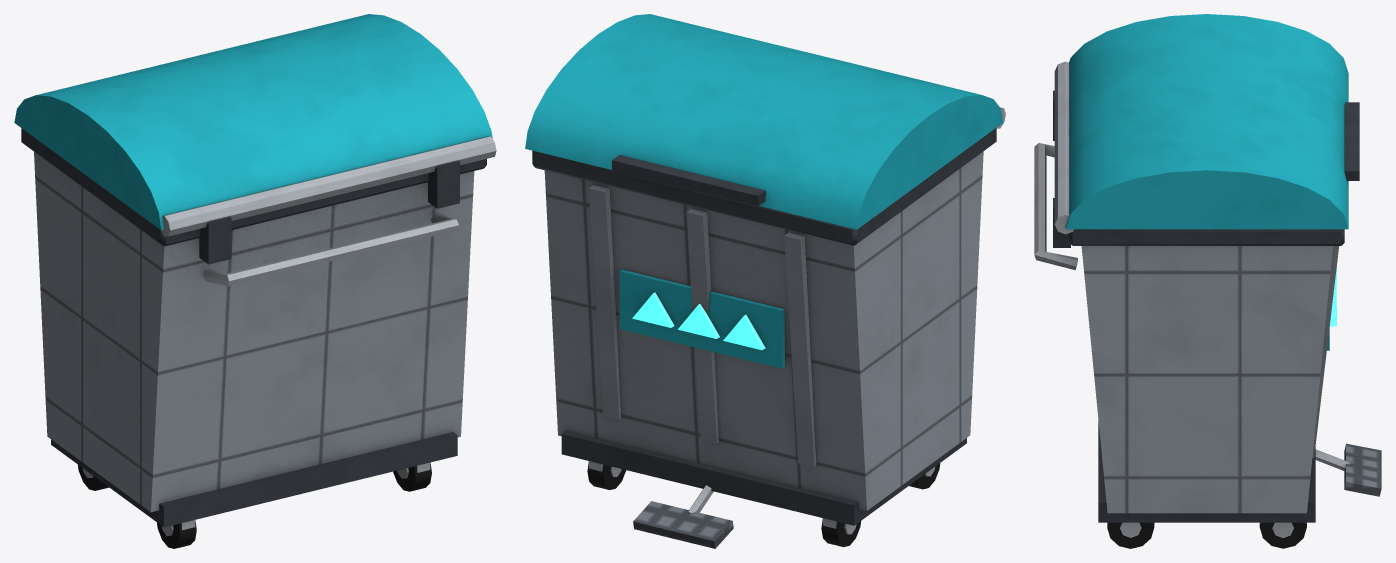
File: contenedor_basura.fbx
The picture shows the model from 3 angles, left to right: view 1: azimuth 30°, elevation 25°; view 2: azimuth 150°, elevation 25°; view 3: azimuth 270°, elevation 25°; orthographic projection. The views are drawn at different scales.
Visible parts, largest first — view 1: contenedor_basura, contenedor_basura_tapa; view 2: contenedor_basura, contenedor_basura_tapa, contenedor_basura_pedal, contenedor_basura_neon; view 3: contenedor_basura, contenedor_basura_tapa, contenedor_basura_pedal.
Part boxes in pixels (box(x1,y1,x2,y2)): contenedor_basura: box(21, 128, 496, 548); contenedor_basura_tapa: box(14, 14, 492, 230); contenedor_basura: box(532, 107, 1005, 547); contenedor_basura_tapa: box(525, 14, 1003, 229); contenedor_basura_pedal: box(633, 501, 733, 548); contenedor_basura_neon: box(632, 292, 765, 350); contenedor_basura: box(1034, 61, 1350, 548); contenedor_basura_tapa: box(1065, 14, 1359, 229); contenedor_basura_pedal: box(1344, 443, 1381, 496).
Bounding box in the file's own units: 2.04 × 2.42 × 1.91.
2 materials, 2 textured.
